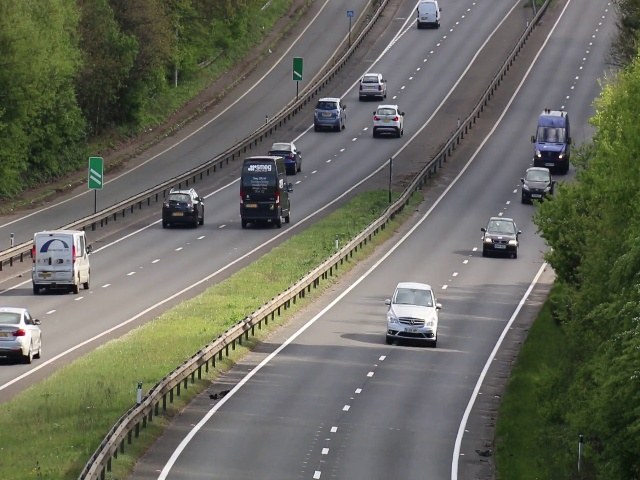car: (32, 232, 90, 295), (238, 161, 292, 226), (385, 282, 437, 346), (1, 307, 41, 363), (534, 113, 570, 173), (161, 187, 204, 228), (484, 215, 518, 258), (314, 97, 347, 131), (523, 168, 552, 205), (373, 103, 403, 135), (358, 72, 387, 99), (415, 1, 440, 28), (276, 142, 296, 159)
